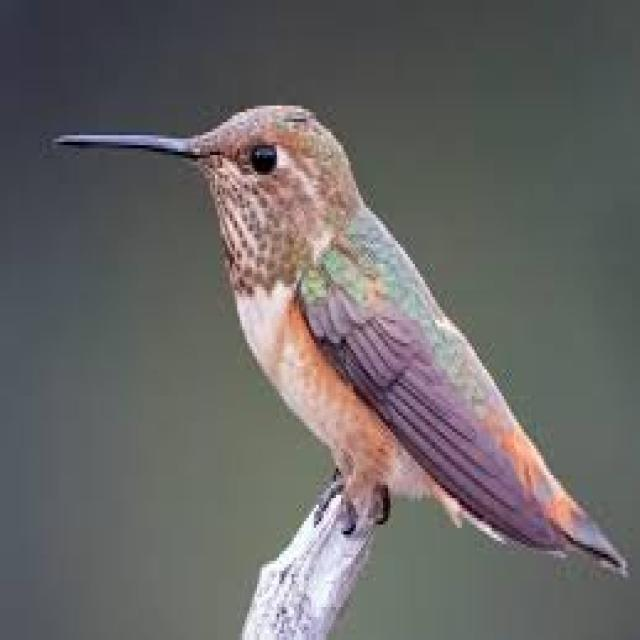Humming Bird: (51, 103, 624, 579)
